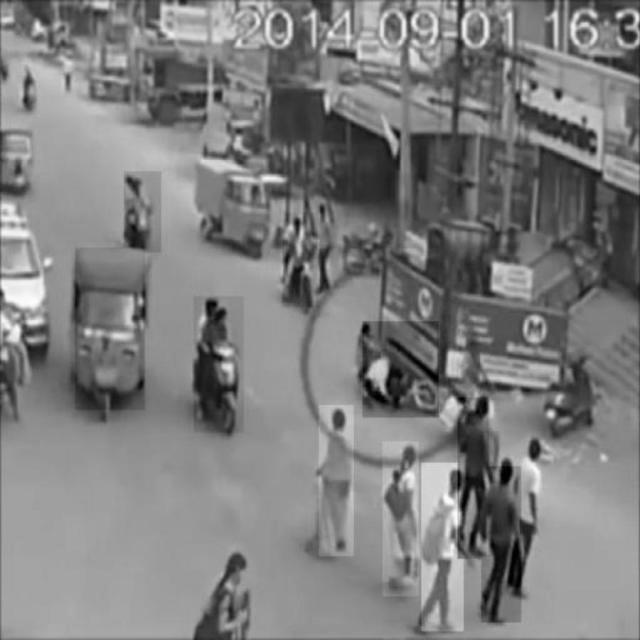person: (422, 463, 464, 631), (482, 467, 522, 623), (383, 442, 419, 596), (319, 405, 354, 556), (458, 398, 488, 558)
vehicle: (75, 247, 145, 411), (363, 321, 439, 417), (194, 296, 244, 432), (198, 162, 270, 256), (282, 213, 318, 307), (125, 172, 162, 253)
